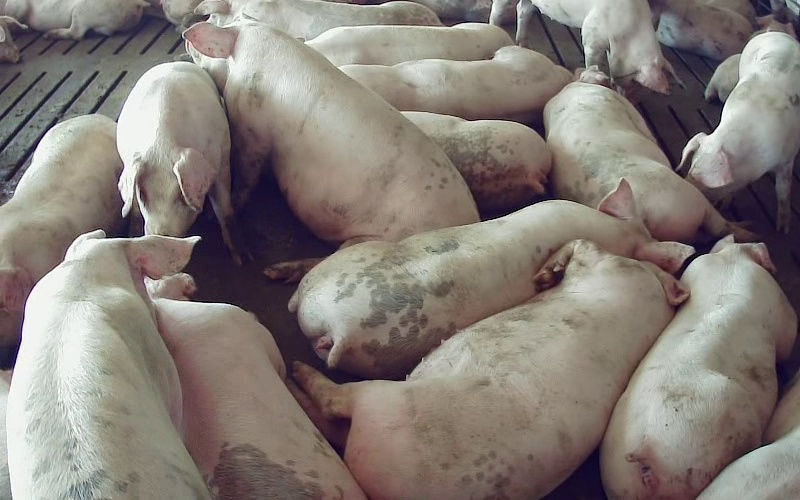pig: (289, 240, 686, 499), (289, 179, 693, 377), (185, 19, 477, 241), (7, 230, 207, 499), (601, 237, 796, 499), (146, 273, 364, 499), (543, 71, 751, 242), (0, 115, 121, 364), (117, 62, 239, 263), (679, 32, 799, 232), (340, 46, 572, 122), (516, 0, 674, 93), (194, 0, 440, 40), (306, 23, 512, 66), (0, 0, 148, 39)
